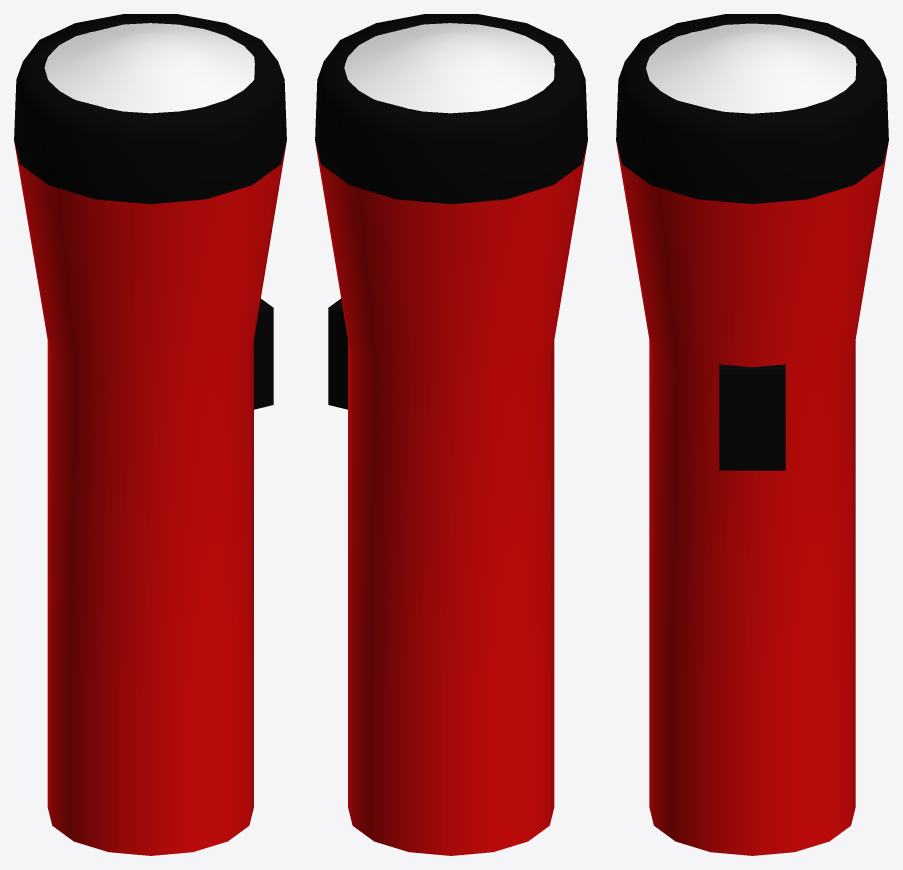
Rendered from handlight.fbx.
3 views of the same model, side by side, from view 1: azimuth 30°, elevation 25°; view 2: azimuth 150°, elevation 25°; view 3: azimuth 270°, elevation 25° (orthographic).
Visible parts, largest first — view 1: pCylinder1, pDisc1, pCube1; view 2: pCylinder1, pDisc1, pCube1; view 3: pCylinder1, pDisc1, pCube1.
Boxes of the visible parts, <box> form: pCylinder1: <box>14,14,286,855</box>; pDisc1: <box>44,23,254,113</box>; pCube1: <box>254,298,273,409</box>; pCylinder1: <box>315,14,587,855</box>; pDisc1: <box>344,23,555,113</box>; pCube1: <box>328,298,347,409</box>; pCylinder1: <box>616,14,888,855</box>; pDisc1: <box>646,23,856,113</box>; pCube1: <box>719,364,785,470</box>.
Bounding box in the file's own units: 4.11 × 12.84 × 4.13.
